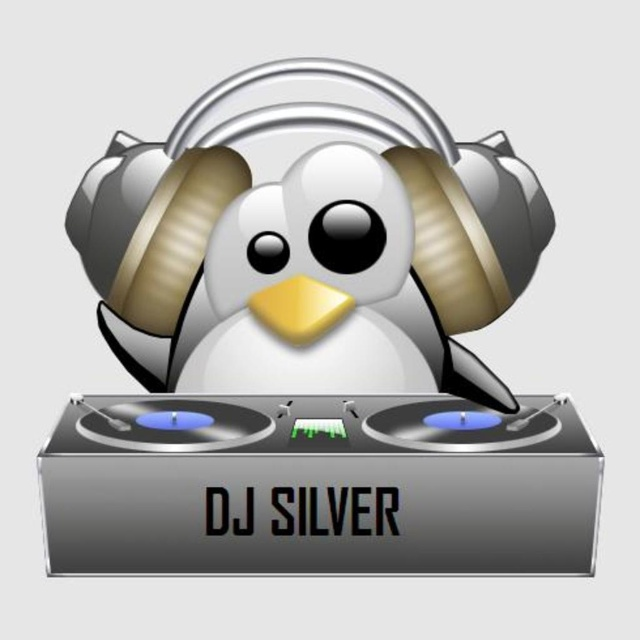Penguin: (91, 144, 521, 413)
